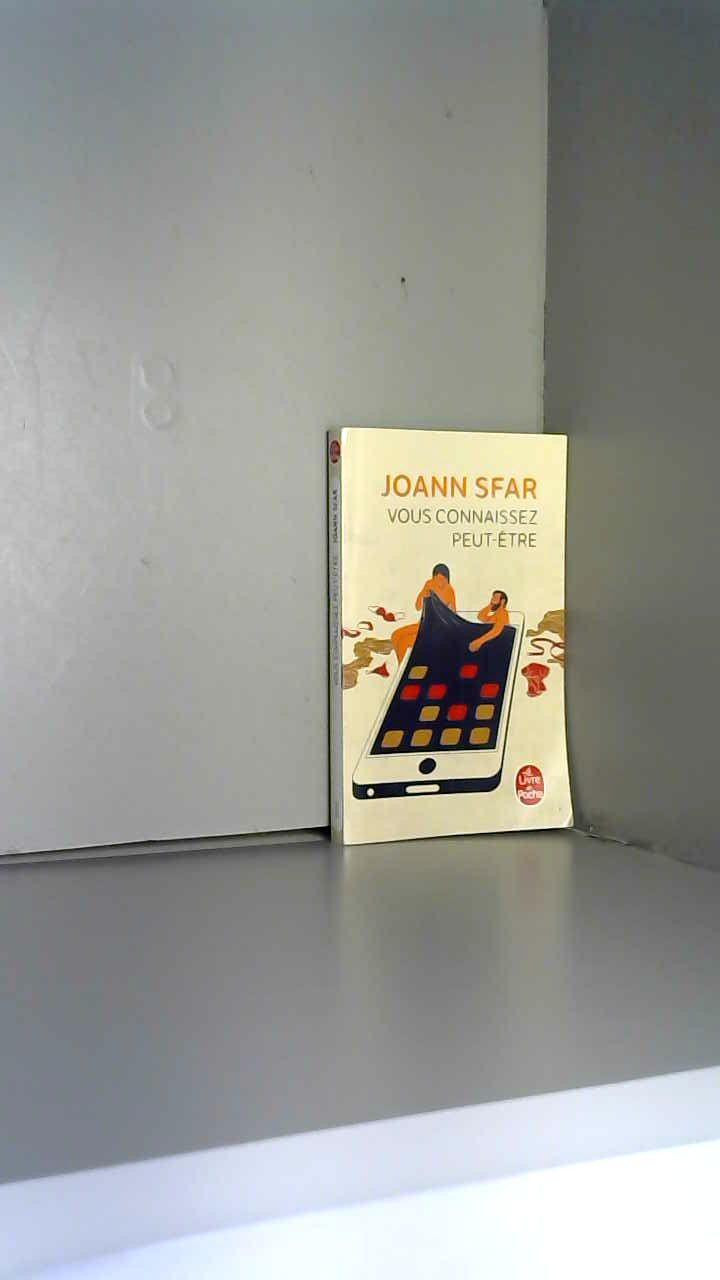book: (311, 409, 590, 861)
